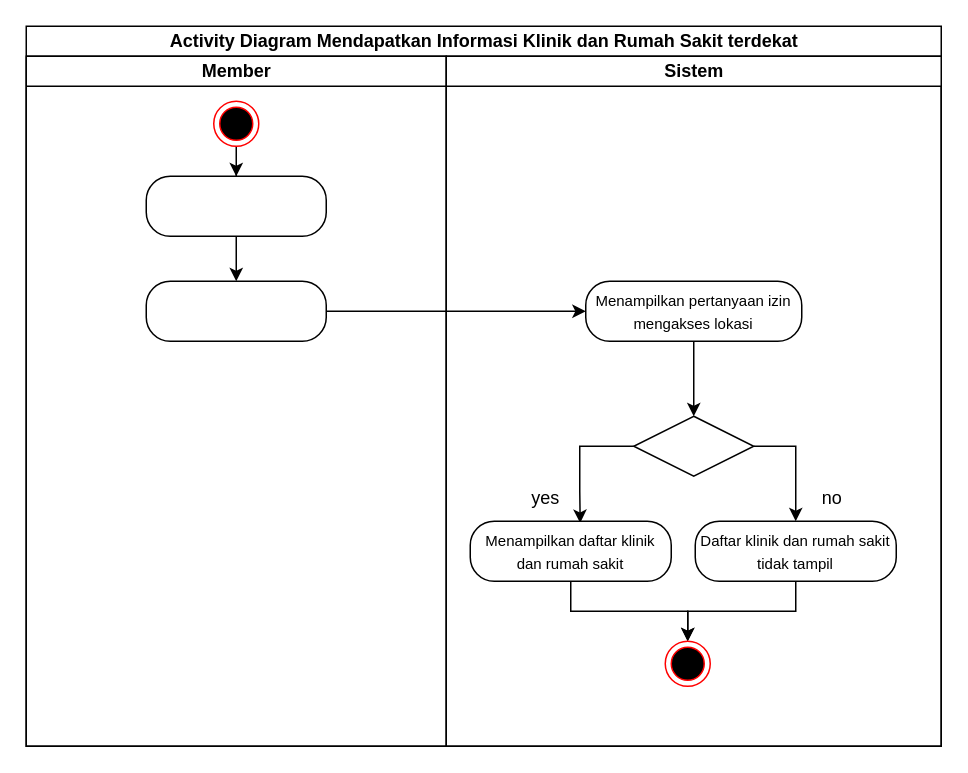
This 968x773 diagram has some shape labels left out. Each missing label, with the centre of its shape:
"Condition" goes at point 693,445.
"Halaman Utama" goes at point 235,205.
"Memilih menu rumah sakit" goes at point 235,310.
